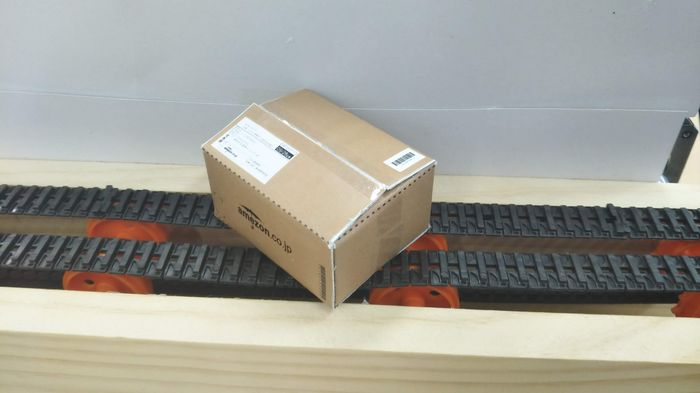box1: (201, 89, 436, 306)
